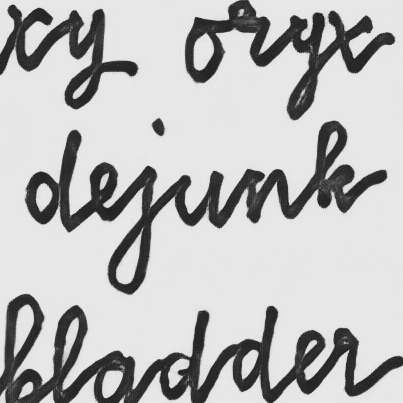d: (20, 125, 84, 234)
e: (87, 160, 125, 224)
j: (105, 116, 168, 296)
k: (311, 118, 358, 214)
n: (241, 164, 292, 226)
u: (171, 169, 228, 230)
